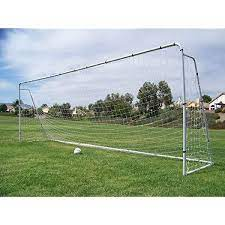goal: (17, 41, 187, 176)
